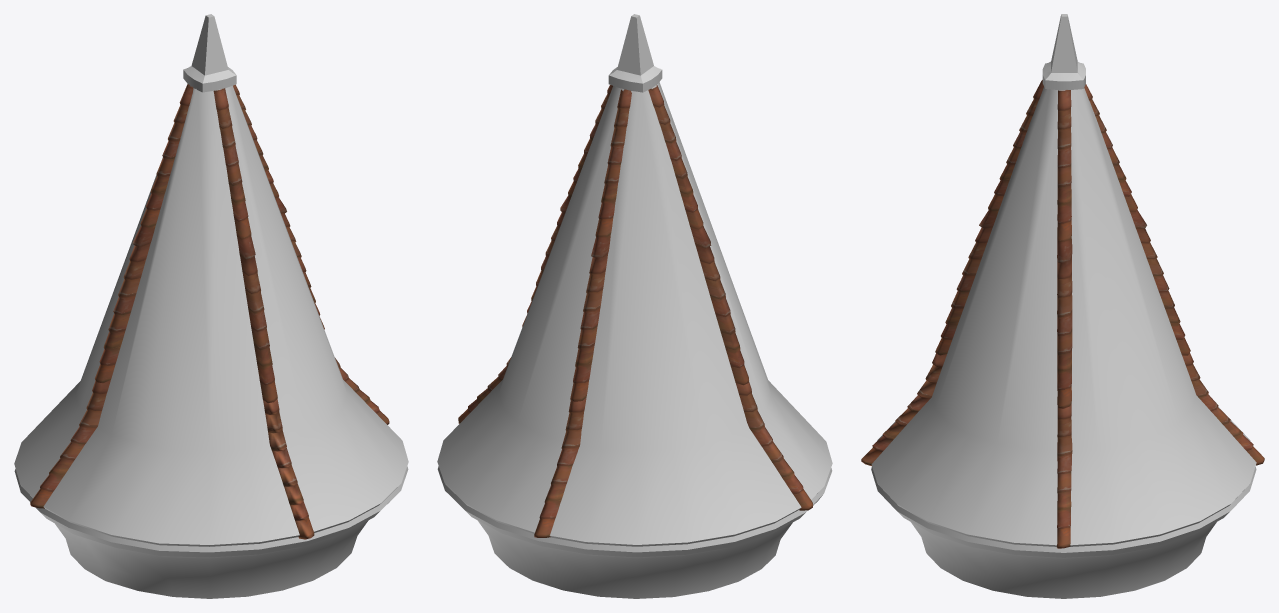
Rendered from SM_GeneralS_Roof_Round.fbx.
3 renders of one model, left to right at view 1: azimuth 30°, elevation 25°; view 2: azimuth 150°, elevation 25°; view 3: azimuth 270°, elevation 25°, orthographic.
Visible parts, largest first — view 1: SM_GeneralS_Roof_Round_LOD0; view 2: SM_GeneralS_Roof_Round_LOD0; view 3: SM_GeneralS_Roof_Round_LOD0.
Part boxes in pixels (x1=…): SM_GeneralS_Roof_Round_LOD0: x1=14, y1=14, x2=408, y2=598; SM_GeneralS_Roof_Round_LOD0: x1=437, y1=14, x2=832, y2=598; SM_GeneralS_Roof_Round_LOD0: x1=861, y1=14, x2=1264, y2=598.
Size of what is drawn, in the model's own units: 7.25 by 10.17 by 7.13.
